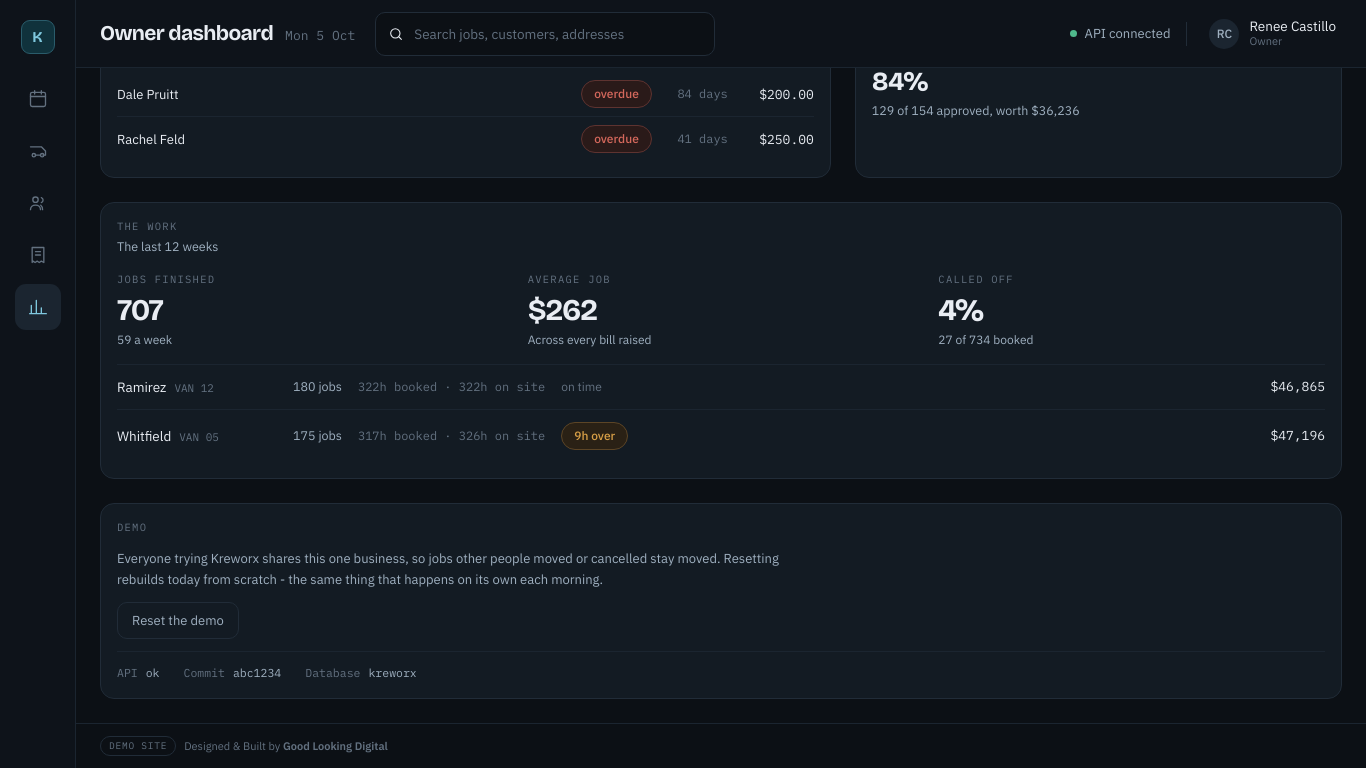
Test: the owner's demo reset › can be backed out of without resetting anything
(page scrolled)
Click the button "Reset the demo" at [178, 621], box x1=117 y1=602 x2=239 y2=639
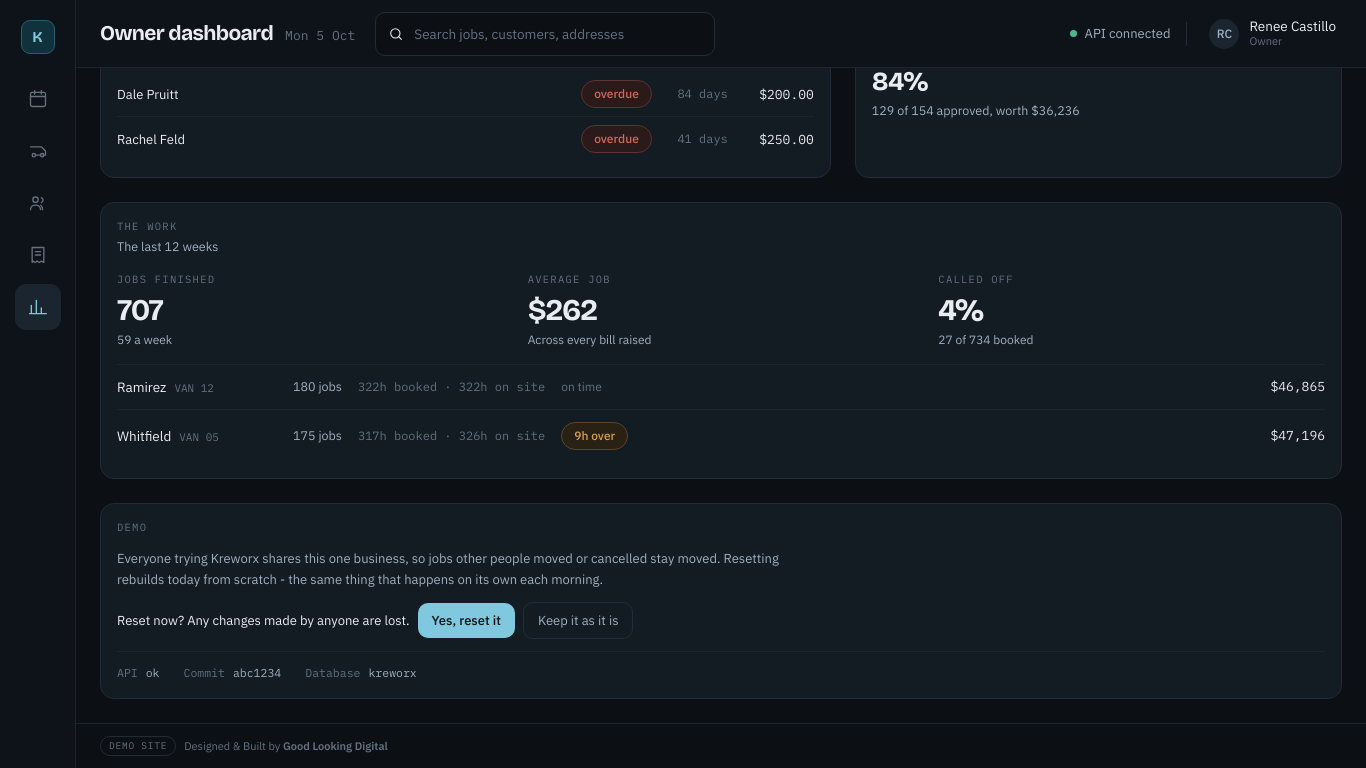
Click the button "Keep it as it is" at [578, 621], box x1=523 y1=602 x2=634 y2=639
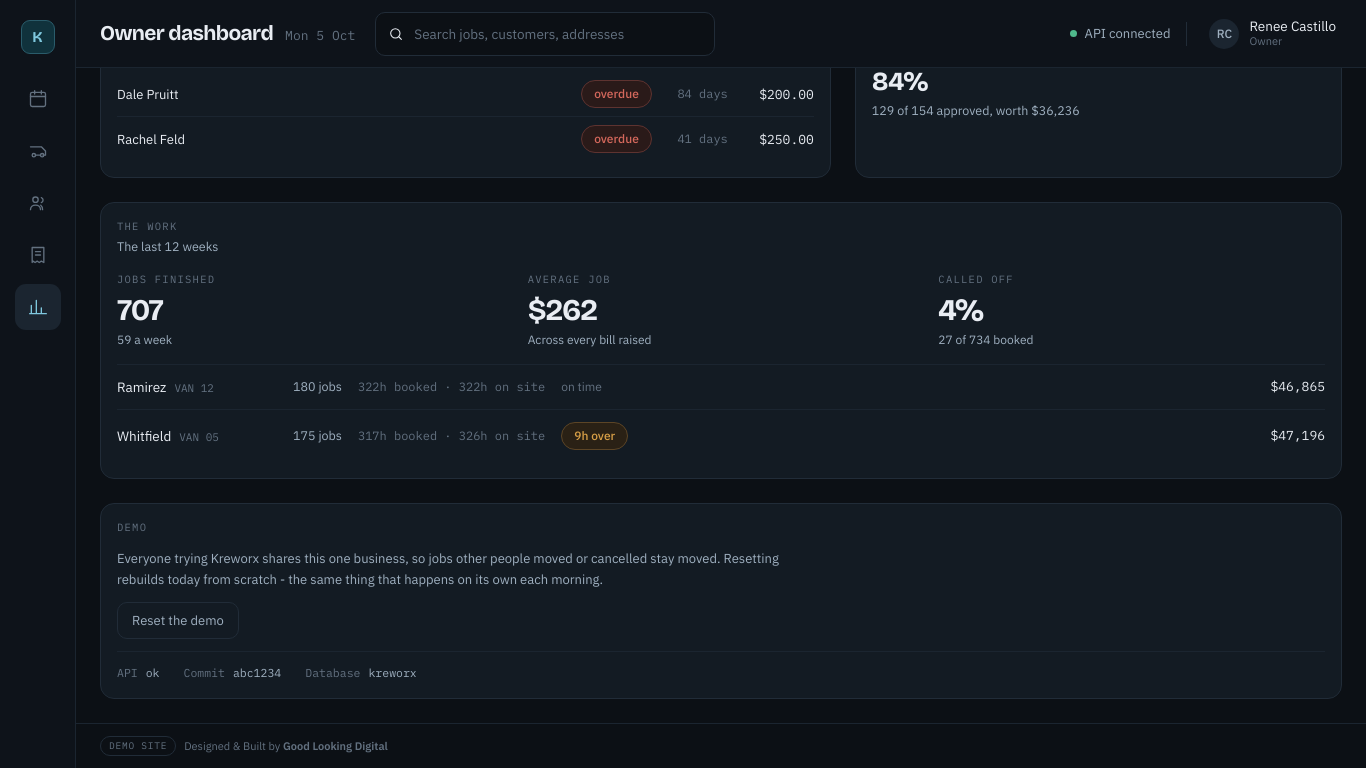
Now the button "Reset the demo" is shown, box x1=117 y1=602 x2=239 y2=639
